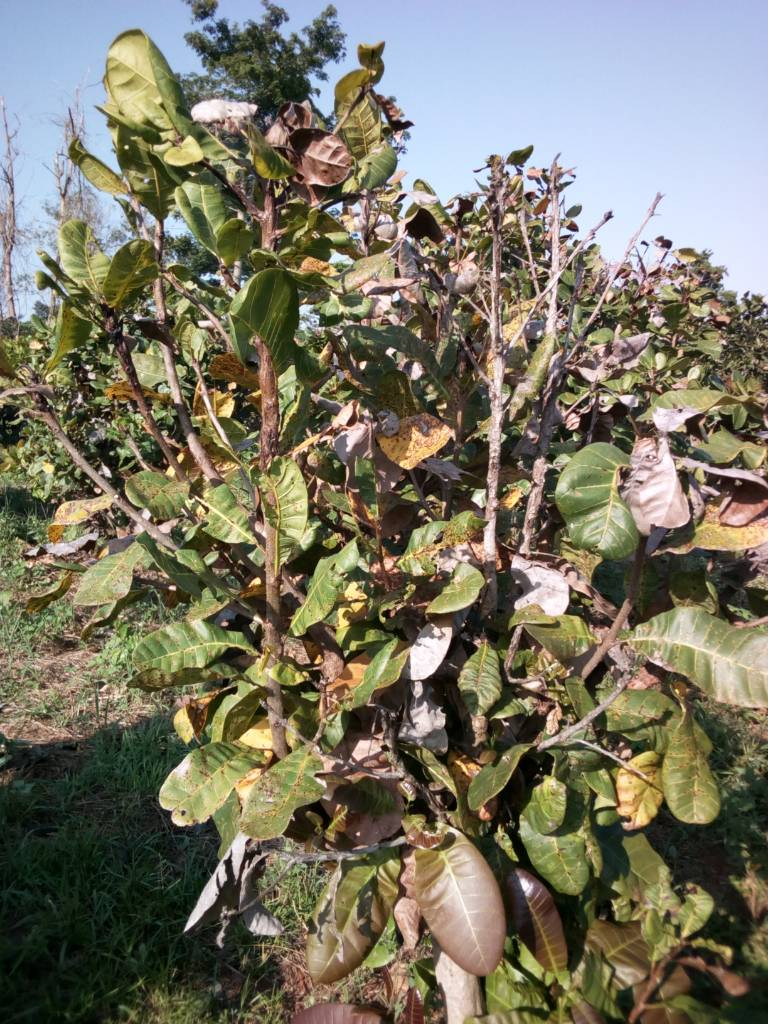Dessèchement des bourgeons: (179, 841, 279, 941)
